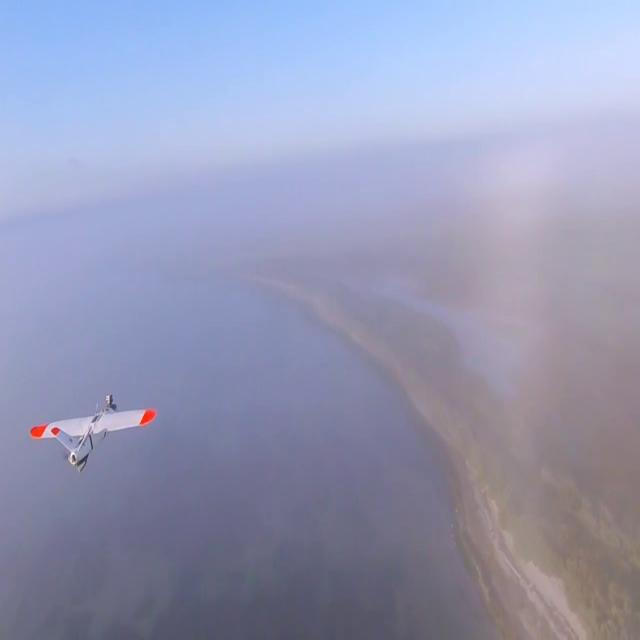iha: (0, 426, 94, 444)
